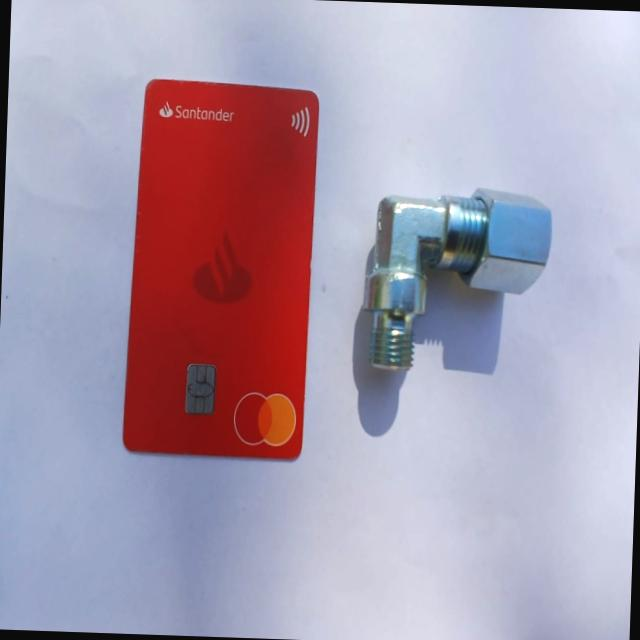cartao: (122, 80, 319, 460)
rosca_externa: (362, 182, 558, 378)
